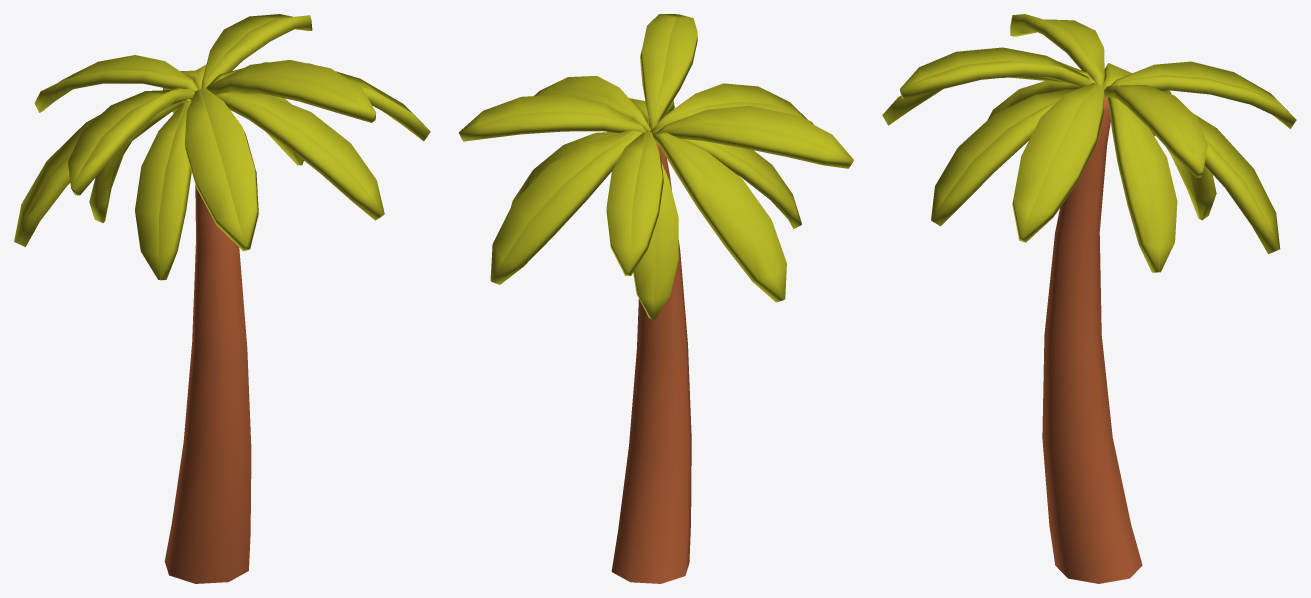
Rendered from palm_l.obj.
3 renders of one model, left to right at view 1: azimuth 30°, elevation 25°; view 2: azimuth 150°, elevation 25°; view 3: azimuth 270°, elevation 25°, orthographic. The views are drawn at different scales.
Parts seen in each view (by area): view 1: palm_l; view 2: palm_l; view 3: palm_l.
Boxes of the visible parts, box(x1,y1,x2,y2) form: palm_l: box(14, 14, 430, 583); palm_l: box(459, 14, 853, 583); palm_l: box(882, 14, 1296, 583).
Size of the model in its own units: 3.42 by 4.74 by 3.37.
